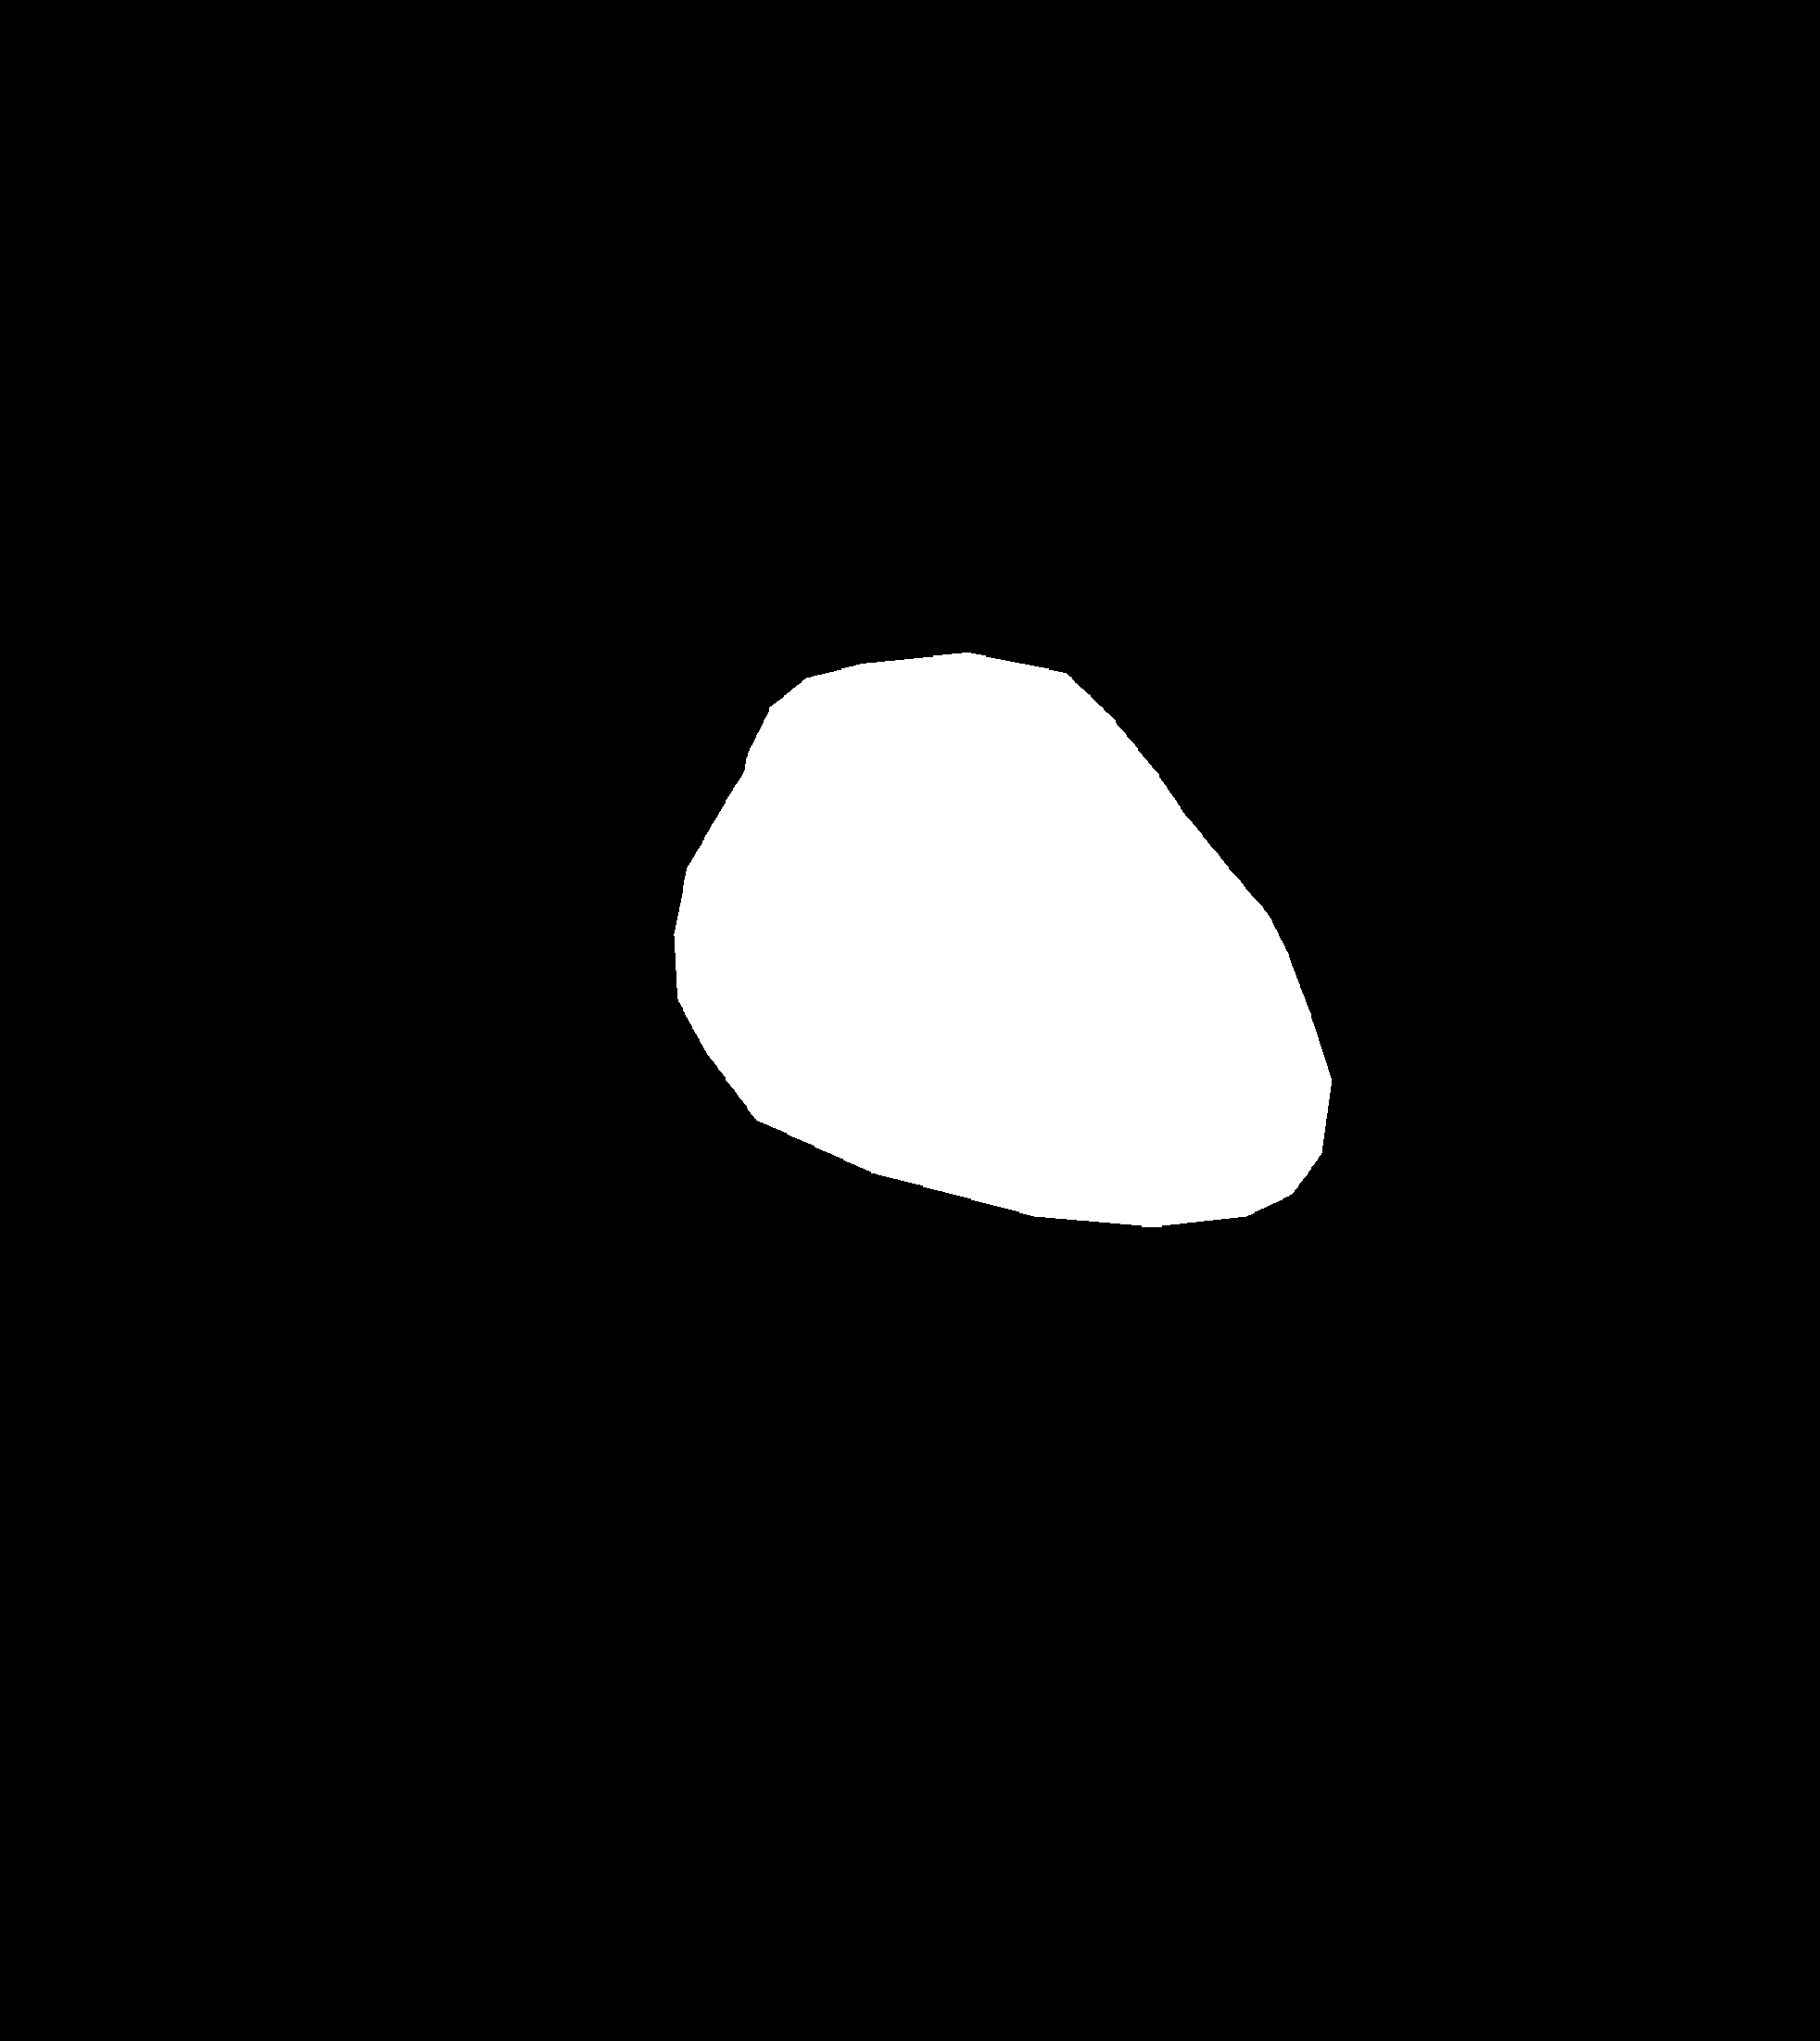heart: (671, 776, 1326, 1200)
left_lung: (260, 227, 803, 1251)
right_lung: (1001, 279, 1520, 1395)
